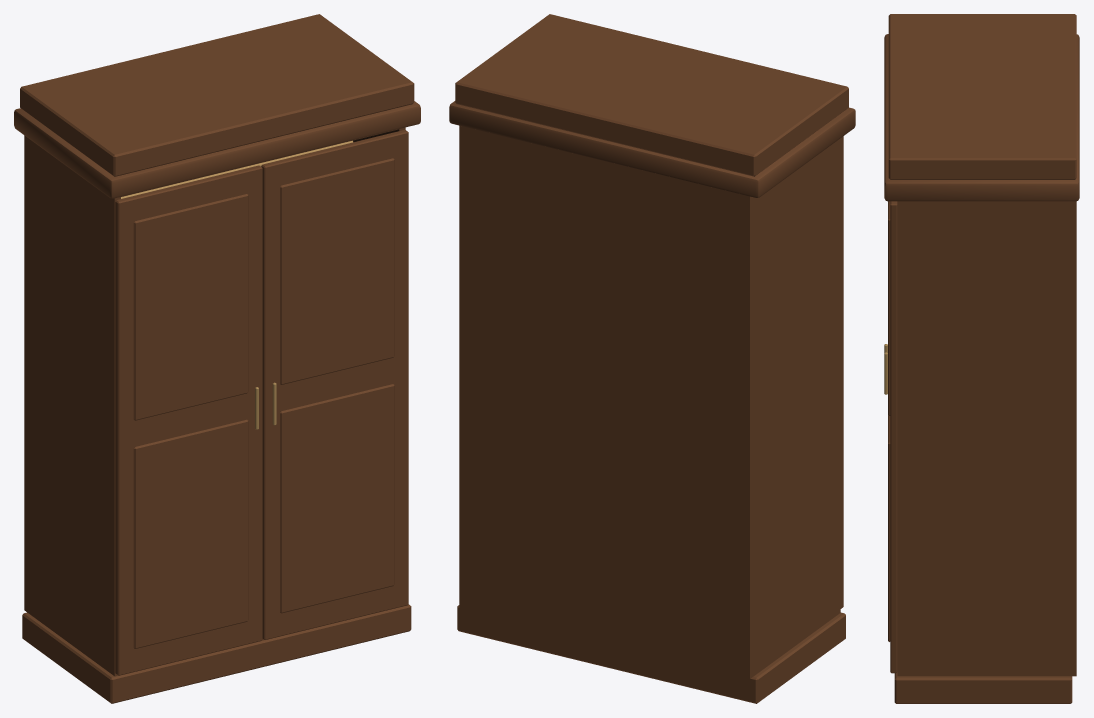
The model's file is wardrobe.glb.
3 views of the same model, side by side, from view 1: azimuth 30°, elevation 25°; view 2: azimuth 150°, elevation 25°; view 3: azimuth 270°, elevation 25° (orthographic).
Parts seen in each view (by area): view 1: wardrobe, door_L, door_R; view 2: wardrobe, door_L; view 3: wardrobe, door_R.
Boxes of the visible parts, x1,y1,x2,y2 form: wardrobe: (14,14,420,703); door_L: (115,165,262,675); door_R: (261,130,408,639); wardrobe: (449,14,855,703); door_L: (840,136,843,608); wardrobe: (884,14,1079,703); door_R: (884,201,897,673).
Size of the model in its own units: 1.24 by 2.1 by 0.68.
